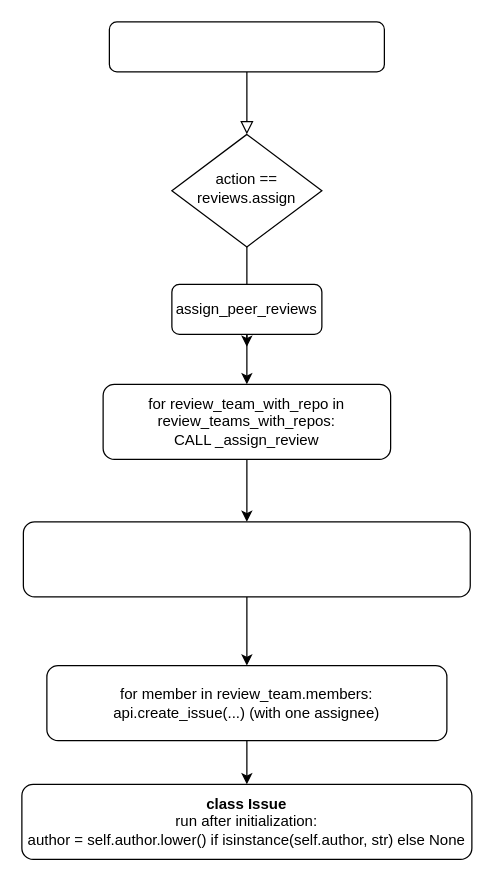
Image size: 494x881. Some labels were removed from this diagram. The centre of each missing label's shape, as x and y in pixels:
"_dispatch_reviews_command (CLI)" belongs at point (246, 46).
"for revie_team in review_teams: CALL _assign_review(...)" belongs at point (246, 559).
